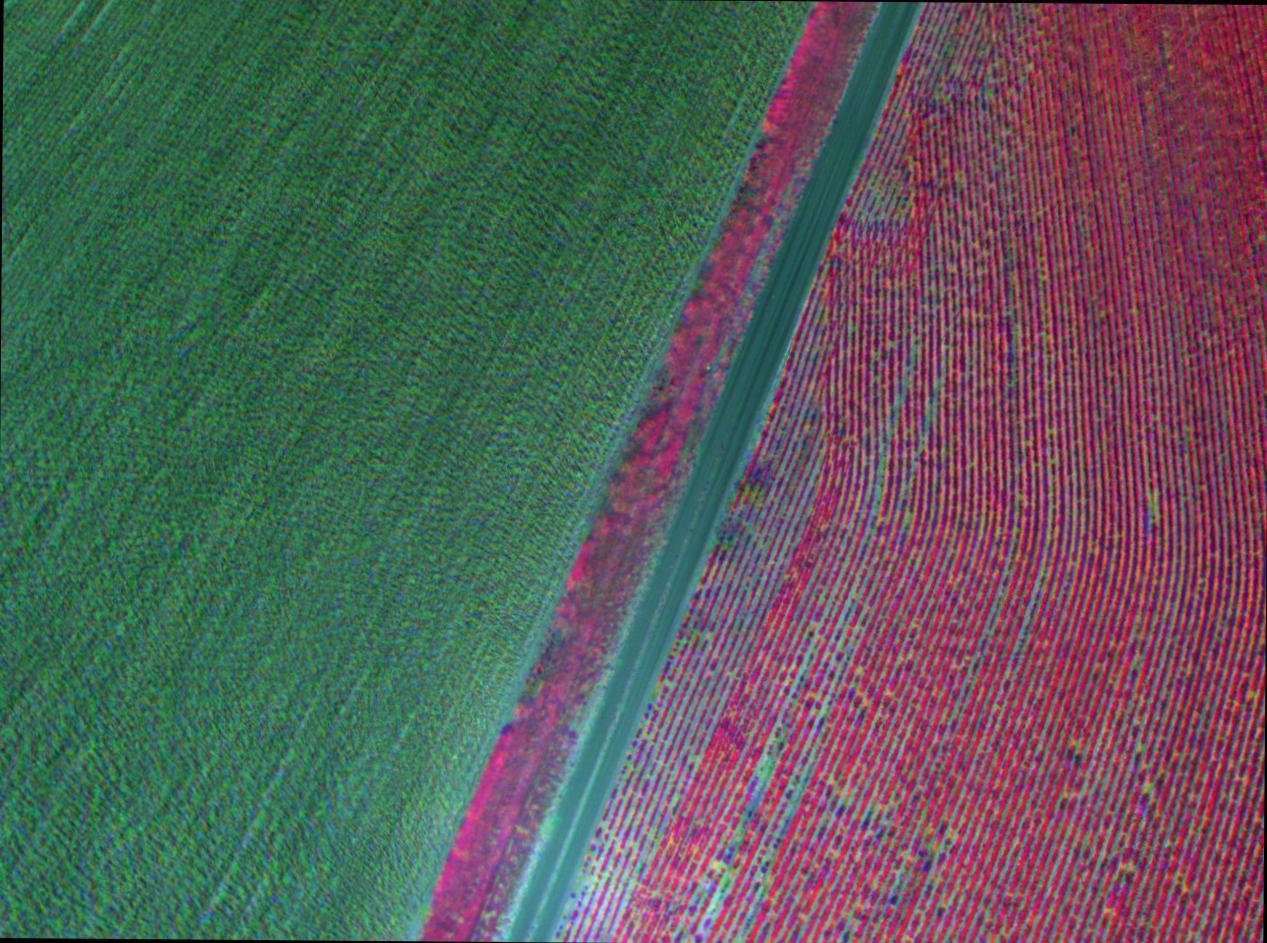dc: (725, 873, 736, 883), (709, 901, 720, 910), (761, 779, 769, 789), (896, 396, 905, 404), (731, 835, 740, 843), (763, 758, 771, 766), (1147, 497, 1156, 504), (1127, 865, 1136, 872), (904, 515, 911, 522), (841, 796, 848, 803), (987, 91, 994, 96), (987, 74, 992, 79), (895, 188, 899, 191)
